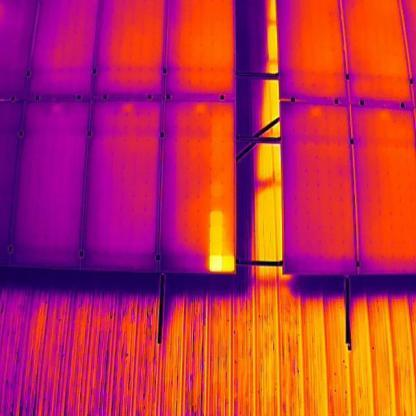anomaly: (204, 206, 238, 277)
